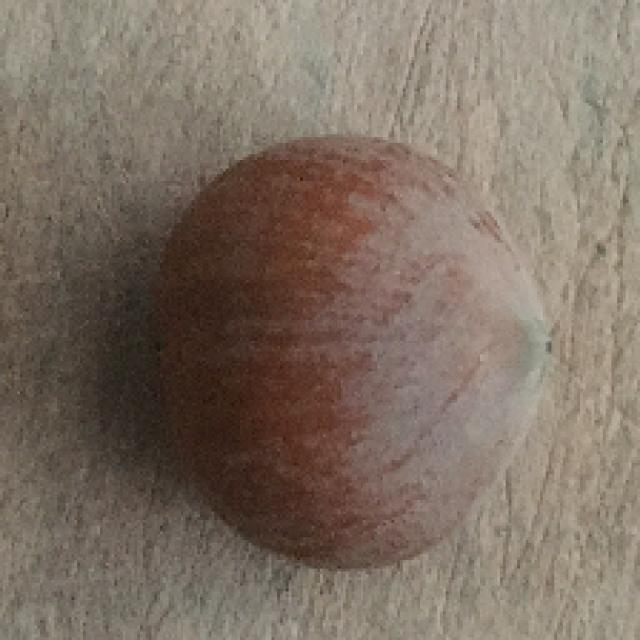qualityHazelnut: (132, 124, 538, 571)
